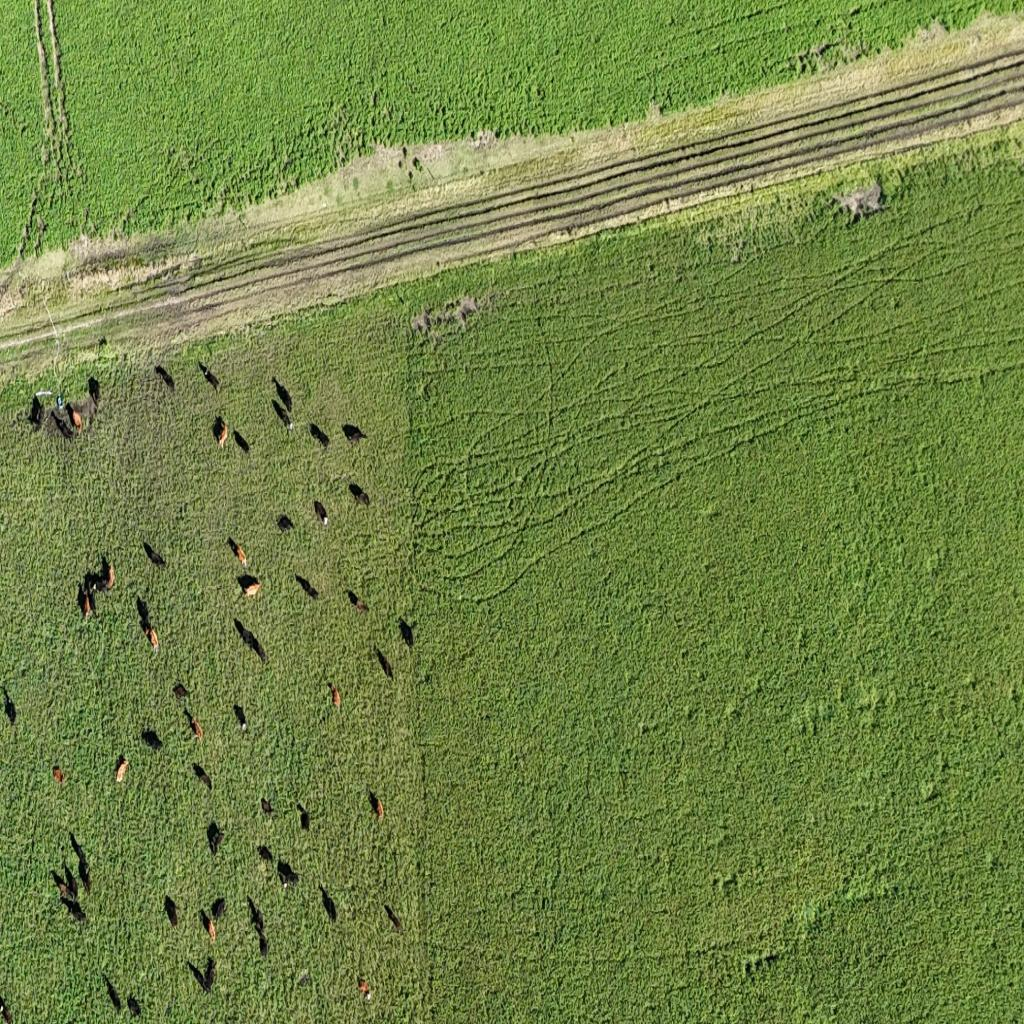cow: (190, 956, 216, 994), (200, 905, 224, 946), (69, 831, 89, 869), (375, 645, 395, 682), (143, 540, 167, 570), (103, 971, 121, 1011), (51, 868, 72, 901), (274, 379, 293, 415), (247, 896, 265, 934), (320, 882, 336, 924), (208, 820, 226, 856), (384, 902, 404, 934), (53, 413, 74, 443), (273, 403, 293, 434), (277, 859, 299, 887), (199, 361, 219, 391), (295, 574, 319, 599), (238, 574, 263, 598), (142, 622, 160, 655), (154, 364, 175, 392), (83, 572, 104, 600), (100, 555, 116, 591), (348, 481, 370, 507), (342, 422, 368, 444), (66, 898, 88, 924), (193, 763, 212, 792), (78, 854, 92, 893), (164, 895, 179, 931), (250, 635, 268, 664), (230, 538, 248, 567), (398, 618, 414, 650), (370, 790, 386, 822), (347, 590, 370, 612), (309, 423, 329, 448), (136, 595, 151, 628), (4, 690, 17, 727), (213, 416, 228, 448), (188, 714, 204, 743), (313, 500, 329, 528), (210, 896, 226, 924), (79, 582, 91, 619), (234, 703, 248, 734), (29, 395, 43, 426), (296, 801, 310, 831), (0, 993, 14, 1023), (87, 376, 101, 405), (116, 755, 130, 784), (127, 994, 142, 1020), (234, 429, 250, 453), (70, 408, 83, 436), (358, 980, 372, 1004), (329, 682, 341, 709), (173, 683, 190, 702), (234, 619, 248, 642), (258, 845, 274, 865), (258, 929, 268, 959), (278, 514, 294, 532), (296, 969, 310, 987), (53, 767, 66, 786), (260, 797, 272, 816)
